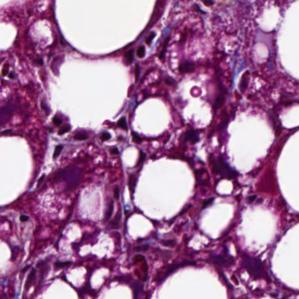inflammation: (44, 107, 96, 144), (90, 111, 135, 149), (129, 24, 162, 61)
